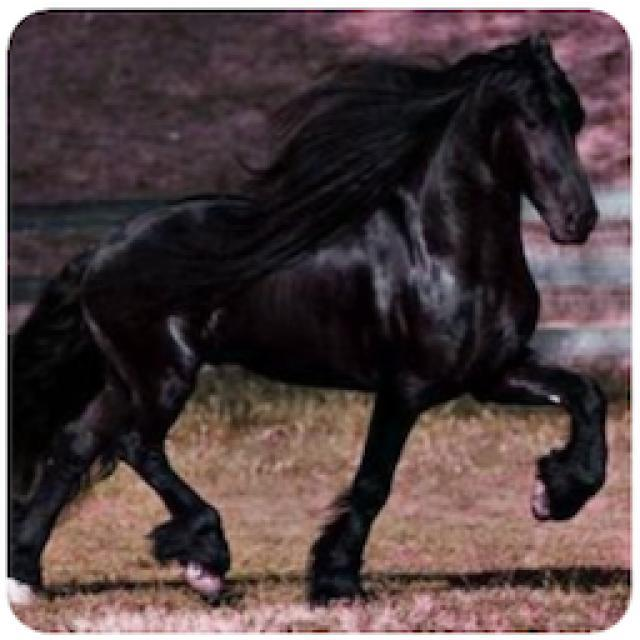Horse: (10, 28, 612, 608)
